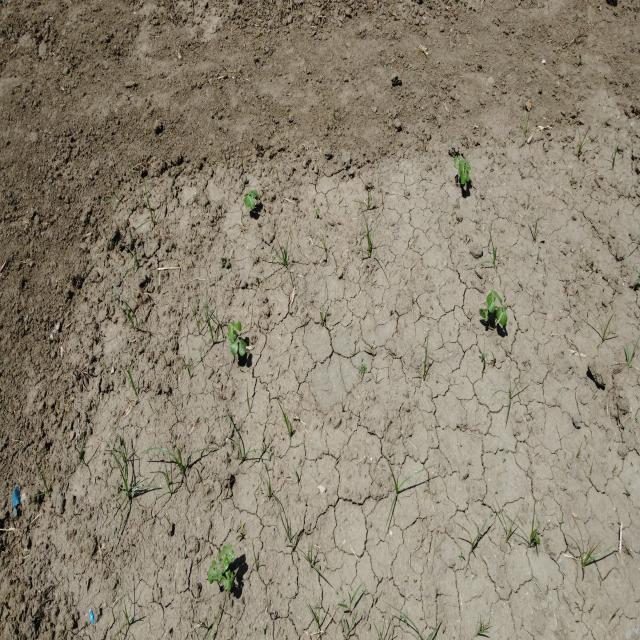seedling_s3: (222, 549, 235, 571), (218, 542, 232, 560), (208, 569, 222, 584), (496, 307, 507, 325), (490, 289, 502, 305), (486, 292, 495, 313), (218, 577, 231, 591), (225, 570, 235, 587), (230, 336, 238, 356), (208, 560, 217, 575), (479, 308, 488, 322), (228, 325, 234, 345), (239, 339, 246, 356), (245, 195, 254, 208), (231, 321, 242, 331), (459, 169, 466, 184), (245, 190, 256, 198), (465, 169, 470, 182), (459, 160, 464, 172), (466, 161, 471, 171), (454, 156, 457, 167), (457, 155, 460, 164)
